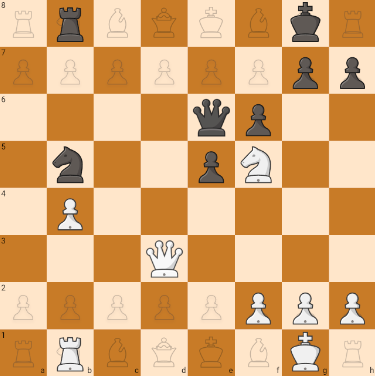bk: (286, 0, 325, 43)
bn: (49, 141, 89, 185)
bp: (331, 52, 369, 91), (193, 148, 231, 186), (288, 50, 322, 92), (241, 100, 275, 138)
bq: (191, 95, 233, 140)
br: (48, 2, 92, 45)
wk: (144, 239, 186, 281), (288, 333, 327, 372)
wn: (239, 146, 277, 183)
wp: (237, 285, 277, 326), (289, 286, 323, 326), (335, 290, 371, 325), (54, 193, 86, 231)
wr: (49, 336, 88, 373)
